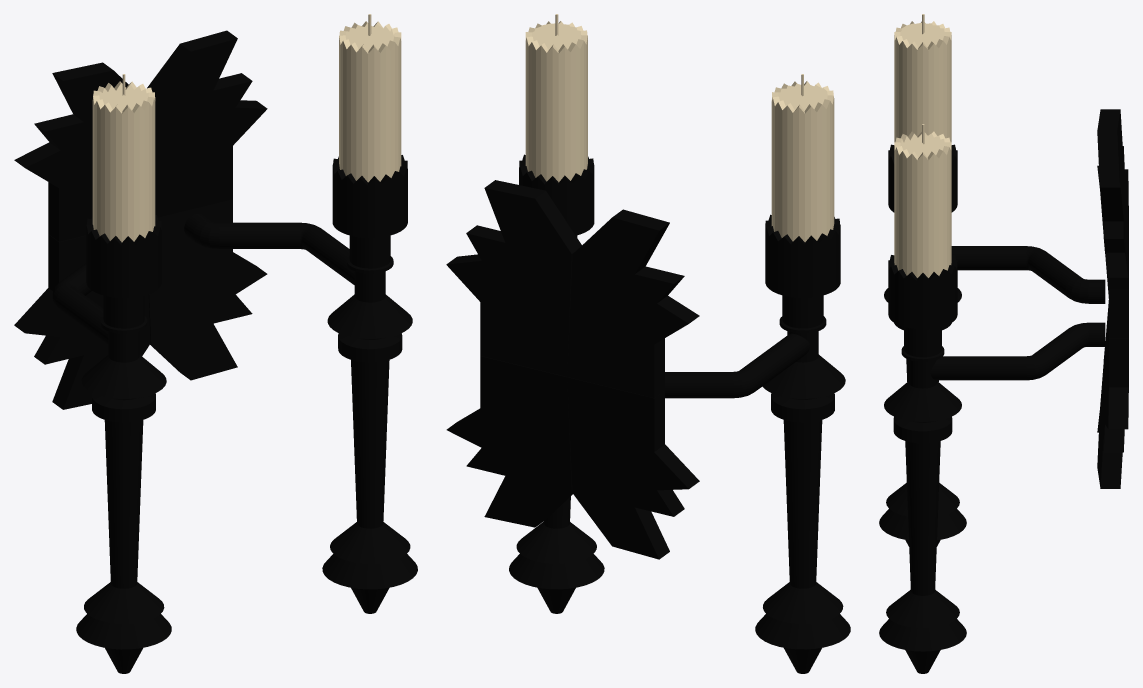
File: Chandelier.fbx
The picture shows the model from 3 angles, left to right: view 1: azimuth 30°, elevation 25°; view 2: azimuth 150°, elevation 25°; view 3: azimuth 270°, elevation 25°; orthographic projection. The views are drawn at different scales.
Visible parts, largest first — view 1: Chandelier; view 2: Chandelier; view 3: Chandelier.
Part boxes in pixels (x1,y1,x2,y2): Chandelier: (14, 14, 417, 673); Chandelier: (446, 14, 850, 673); Chandelier: (879, 14, 1128, 673).
Bounding box in the file's own units: 134 × 232 × 96.12.
